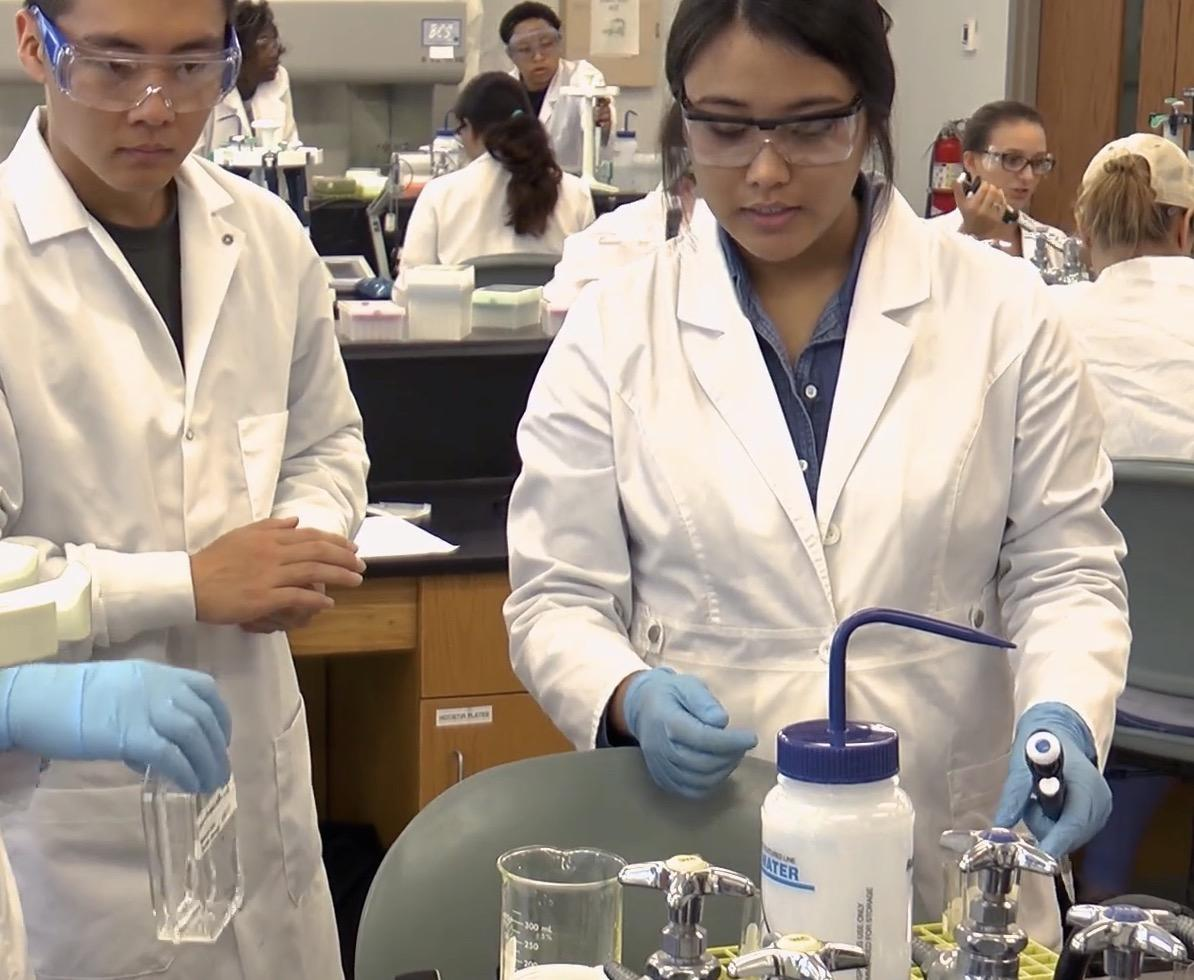Bata-Correcta: (510, 0, 1138, 960)
